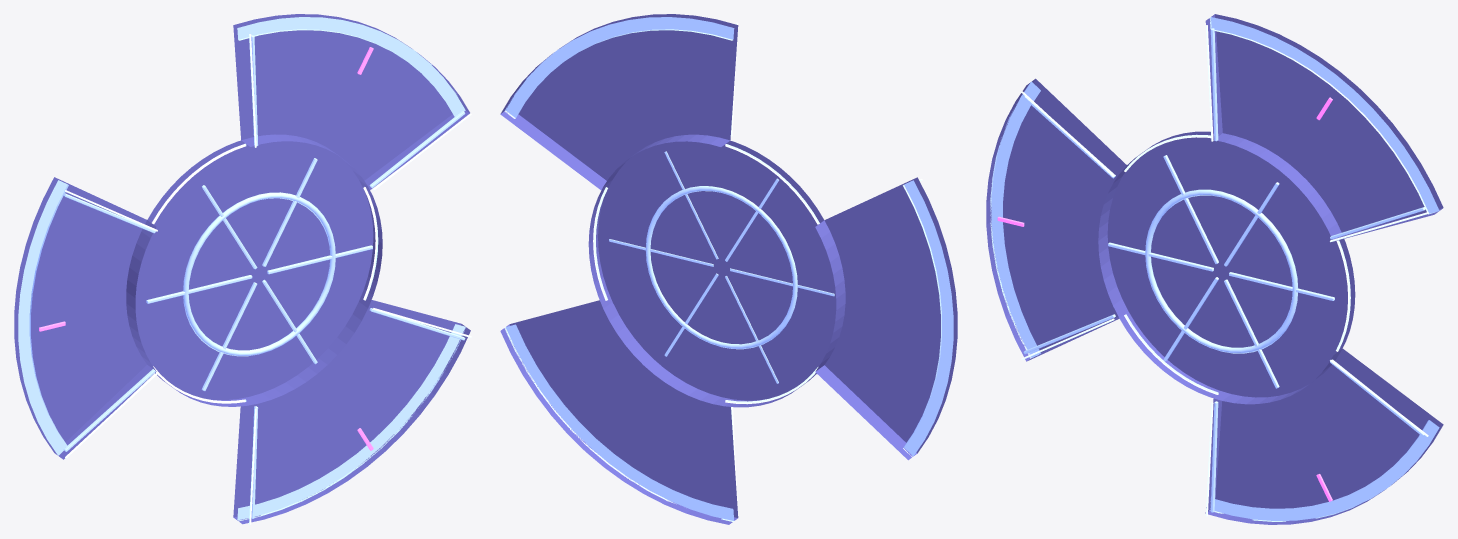
File: prism-panel-fun10-high.glb
The picture shows the model from 3 angles, left to right: view 1: azimuth 30°, elevation 25°; view 2: azimuth 150°, elevation 25°; view 3: azimuth 330°, elevation 25°; orthographic projection.
Parts seen in each view (by area): view 1: RENDER_PANEL_SHELL, RENDER_PANEL_FRAME, RENDER_PANEL_SIGNAL; view 2: RENDER_PANEL_SHELL, RENDER_PANEL_FRAME, RENDER_PANEL_SIGNAL; view 3: RENDER_PANEL_SHELL, RENDER_PANEL_FRAME, RENDER_PANEL_SIGNAL.
Boxes of the visible parts, x1,y1,x2,y2 form: RENDER_PANEL_SHELL: (14, 14, 470, 524); RENDER_PANEL_FRAME: (18, 17, 465, 521); RENDER_PANEL_SIGNAL: (65, 34, 471, 524); RENDER_PANEL_SHELL: (500, 14, 957, 524); RENDER_PANEL_FRAME: (504, 17, 953, 521); RENDER_PANEL_SIGNAL: (593, 22, 922, 513); RENDER_PANEL_SHELL: (986, 14, 1443, 524); RENDER_PANEL_FRAME: (990, 17, 1439, 521); RENDER_PANEL_SIGNAL: (1021, 25, 1428, 516).
Size of what is drawn, in the model's own units: 38.9 by 40.99 by 1.95.
